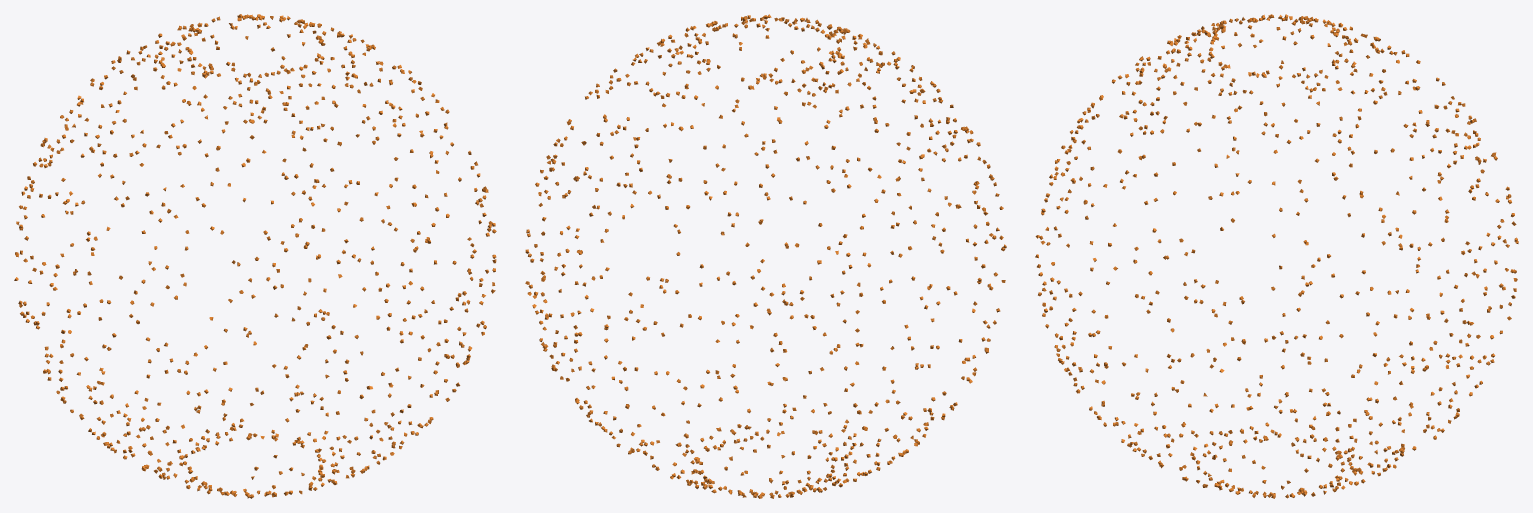
File: cosmos.glb
The picture shows the model from 3 angles, left to right: view 1: azimuth 30°, elevation 25°; view 2: azimuth 150°, elevation 25°; view 3: azimuth 270°, elevation 25°; orthographic projection.
Parts seen in each view (by area): view 1: cosmos - 2m; view 2: cosmos - 2m; view 3: cosmos - 2m.
Part boxes in pixels (<box>): cosmos - 2m: <box>14,14,496,498</box>; cosmos - 2m: <box>525,14,1006,498</box>; cosmos - 2m: <box>1035,14,1518,498</box>.
Size of the model in its own units: 0.356 by 0.3441 by 0.356.
